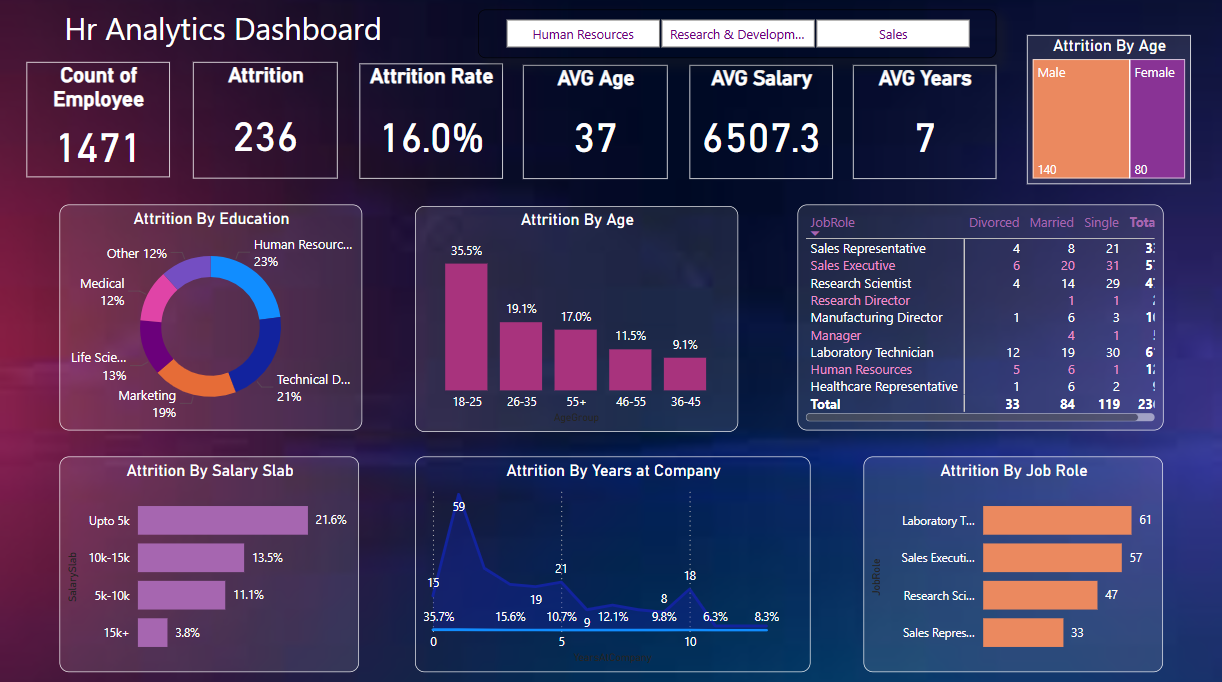

The page's visual inventory and layout, read from the dashboard file:
{"tool":"powerbi","page":{"name":"Page 1","canvas":[1280,720],"ordinal":0},"visuals":[{"type":"card","title":"Count of Employee","fields":{"Values":["CountNonNull(HR_Analytics.empid_numeric)"]},"box":[29.2,69.2,149.2,120],"z":0},{"type":"card","title":"Attrition","fields":{"Values":["CountNonNull(HR_Analytics.Attrition_newcol)"]},"box":[203.1,69.2,150.8,121.5],"z":1000},{"type":"card","title":"Attrition Rate","fields":{"Values":["HR_Analytics.AttritionRate"]},"box":[376.9,70.8,149.2,120],"z":2000},{"type":"card","title":"AVG Age","fields":{"Values":["Avg(HR_Analytics.Age)"]},"box":[546.2,72.3,150.8,118.5],"z":3000},{"type":"card","title":"AVG Salary","fields":{"Values":["Avg(HR_Analytics.MonthlyIncome)"]},"box":[720,72.3,149.2,118.5],"z":4000},{"type":"card","title":"AVG Years","fields":{"Values":["Avg(HR_Analytics.YearsAtCompany)"]},"box":[890.8,72.3,149.2,118.5],"z":5000},{"type":"donutChart","title":"Attrition By Education","fields":{"Category":["HR_Analytics.EducationField"],"Y":["HR_Analytics.AttritionRate"]},"box":[64.6,216.9,315.4,235.4],"z":6000},{"type":"columnChart","title":"Attrition By Age","fields":{"Category":["HR_Analytics.AgeGroup"],"Y":["HR_Analytics.AttritionRate"]},"box":[433.8,218.5,336.9,235.4],"z":7000},{"type":"pivotTable","fields":{"Rows":["HR_Analytics.JobRole"],"Columns":["HR_Analytics.MaritalStatus"],"Values":["Sum(HR_Analytics.Attrition_newcol)"]},"box":[832.3,216.9,381.5,235.4],"z":8000},{"type":"barChart","title":"Attrition By Salary Slab","fields":{"Category":["HR_Analytics.SalarySlab"],"Y":["HR_Analytics.AttritionRate"]},"box":[64.6,480,312.3,224.6],"z":9000},{"type":"barChart","title":"Attrition By Job Role","fields":{"Category":["HR_Analytics.JobRole"],"Y":["Sum(HR_Analytics.Attrition_newcol)"]},"box":[901.5,480,312.3,224.6],"z":10000},{"type":"areaChart","title":"Attrition By Years at Company","fields":{"Category":["HR_Analytics.YearsAtCompany"],"Y":["HR_Analytics.AttritionRate","Sum(HR_Analytics.Attrition_newcol)"]},"box":[433.8,480,412.3,224.6],"z":11000},{"type":"treemap","title":"Attrition By Age","fields":{"Values":["Sum(HR_Analytics.Attrition_newcol)"],"Group":["HR_Analytics.Gender"]},"box":[1072.3,40,170.8,155.4],"z":12000},{"type":"slicer","fields":{"Values":["HR_Analytics.Department"]},"box":[500,13.8,540,50.8],"z":13000},{"type":"textbox","box":[64.6,6.2,400,58.5],"z":14000}]}

Visuals, with their boxes in screenshot pixels (x1, y1, x2, y2), scaled from the page's 1280x720 canvas onto the 1222x682 screenshot:
"Count of Employee" card: [28, 66, 170, 179]
"Attrition" card: [194, 66, 338, 181]
"Attrition Rate" card: [360, 67, 502, 181]
"AVG Age" card: [521, 68, 665, 181]
"AVG Salary" card: [687, 68, 830, 181]
"AVG Years" card: [850, 68, 993, 181]
"Attrition By Education" donutChart: [62, 205, 363, 428]
"Attrition By Age" columnChart: [414, 207, 736, 430]
pivotTable - HR_Analytics.JobRole x HR_Analytics.MaritalStatus: [795, 205, 1159, 428]
"Attrition By Salary Slab" barChart: [62, 455, 360, 667]
"Attrition By Job Role" barChart: [861, 455, 1159, 667]
"Attrition By Years at Company" areaChart: [414, 455, 808, 667]
"Attrition By Age" treemap: [1024, 38, 1187, 185]
slicer - HR_Analytics.Department: [477, 13, 993, 61]
textbox: [62, 6, 444, 61]
